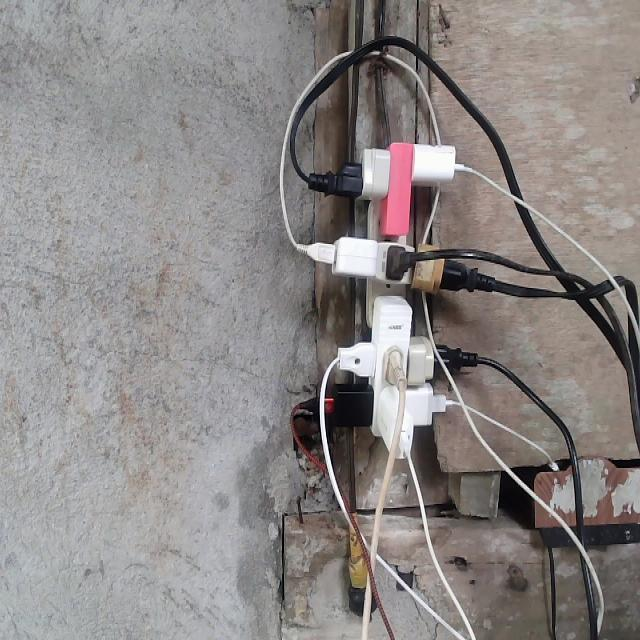-: (317, 139, 468, 460)
